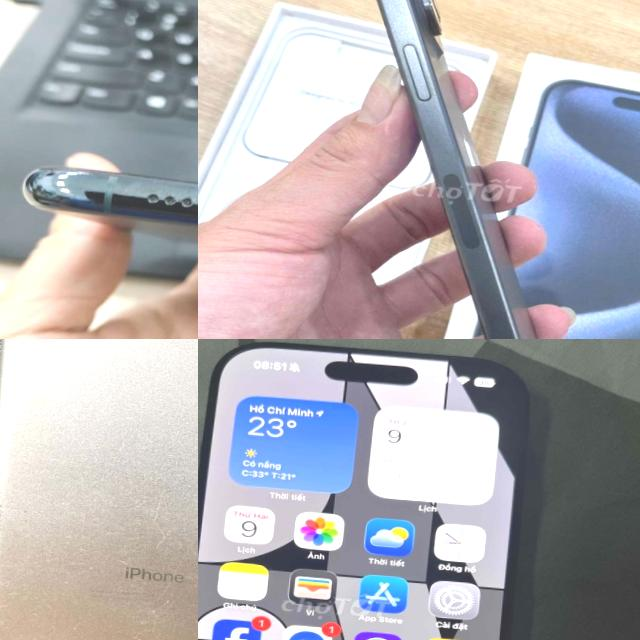scratch: (125, 163, 198, 250), (144, 490, 168, 547), (136, 592, 173, 618), (21, 596, 46, 616), (0, 499, 5, 555)
